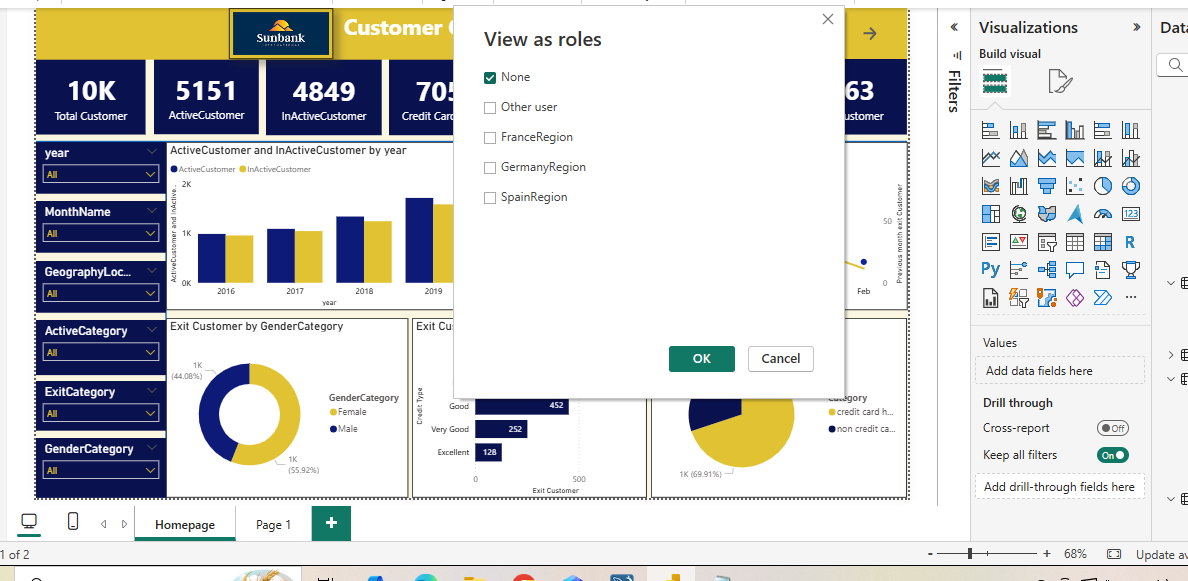

The dashboard page shown, as its layout file describes it:
{"tool":"powerbi","page":{"name":"Homepage","canvas":[1280,720],"ordinal":0},"visuals":[{"type":"card","fields":{"Values":["Calculations.Total Customer"]},"box":[0,75.6,161.3,110.9],"z":0},{"type":"card","fields":{"Values":["Calculations.ActiveCustomer"]},"box":[173.4,73.5,154.3,111.7],"z":1000},{"type":"card","fields":{"Values":["Calculations.InActiveCustomer"]},"box":[338,74.9,170.4,111.7],"z":2000},{"type":"card","fields":{"Values":["Calculations.Credit Card Holder"]},"box":[518.7,74.9,170.4,111.7],"z":3000},{"type":"card","fields":{"Values":["Calculations.Non Credit Card Holder"]},"box":[699.4,74.9,198.4,111.7],"z":4000},{"type":"textbox","box":[0,0,1280,75.6],"z":5000},{"type":"card","fields":{"Values":["Calculations.Exit Customer"]},"box":[909.6,74.9,174.9,111.7],"z":6000},{"type":"card","fields":{"Values":["Calculations.Retain Customer"]},"box":[1095.2,75.6,184.8,110.9],"z":7000},{"type":"image","box":[283.6,0,152.8,74.9],"z":8000},{"type":"shape","box":[0,174.9,1279.8,42.6],"z":9000},{"type":"shape","box":[173.4,196.9,35.3,523.1],"z":10000},{"type":"slicer","fields":{"Values":["DateMaster.year"]},"box":[0,196.9,191,76.4],"z":11000},{"type":"slicer","fields":{"Values":["DateMaster.MonthName"]},"box":[0,283.6,191,76.4],"z":12000},{"type":"slicer","fields":{"Values":["Geography.GeographyLocation"]},"box":[0,371.8,191,76.4],"z":13000},{"type":"slicer","fields":{"Values":["ActiveCustomer.ActiveCategory"]},"box":[0,458.4,191,80.8],"z":14000},{"type":"slicer","fields":{"Values":["ExitCustomer.ExitCategory"]},"box":[0,548.1,191,73.5],"z":15000},{"type":"slicer","fields":{"Values":["Gender.GenderCategory"]},"box":[0,631.8,191,88.2],"z":16000},{"type":"clusteredColumnChart","fields":{"Category":["DateMaster.year","DateMaster.month"],"Y":["Calculations.ActiveCustomer","Calculations.InActiveCustomer"]},"box":[191,196.9,439.3,246.9],"z":17000},{"type":"lineChart","fields":{"Category":["DateMaster.MonthName"],"Y":["Calculations.Exit Customer"],"Y2":["Calculations.Previous month exit Customer"]},"box":[640,196.5,640,246.9],"z":18000},{"type":"donutChart","fields":{"Y":["Calculations.Exit Customer"],"Category":["Gender.GenderCategory"]},"box":[191,455.5,355.6,264.5],"z":19000},{"type":"barChart","fields":{"Category":["Bank_Churn.Credit Type"],"Y":["Calculations.Exit Customer"]},"box":[552.5,455.5,345.3,264.5],"z":20000},{"type":"pieChart","fields":{"Category":["CreditCard.Category"],"Y":["Calculations.Exit Customer"]},"box":[903.7,455.5,376.2,264.5],"z":21000},{"type":"actionButton","box":[1204.9,17.6,64.7,39.7],"z":22000}]}

Visuals, with their boxes on the page's 1280x720 design canvas (x1, y1, x2, y2). These are canvas units, not pixel positions in the 1188x581 screenshot, which may show the page scaled, cropped or inside an application window:
card - Calculations.Total Customer: x1=0, y1=76, x2=161, y2=186
card - Calculations.ActiveCustomer: x1=173, y1=74, x2=328, y2=185
card - Calculations.InActiveCustomer: x1=338, y1=75, x2=508, y2=187
card - Calculations.Credit Card Holder: x1=519, y1=75, x2=689, y2=187
card - Calculations.Non Credit Card Holder: x1=699, y1=75, x2=898, y2=187
textbox: x1=0, y1=0, x2=1280, y2=76
card - Calculations.Exit Customer: x1=910, y1=75, x2=1084, y2=187
card - Calculations.Retain Customer: x1=1095, y1=76, x2=1280, y2=186
image: x1=284, y1=0, x2=436, y2=75
shape: x1=0, y1=175, x2=1280, y2=218
shape: x1=173, y1=197, x2=209, y2=720
slicer - DateMaster.year: x1=0, y1=197, x2=191, y2=273
slicer - DateMaster.MonthName: x1=0, y1=284, x2=191, y2=360
slicer - Geography.GeographyLocation: x1=0, y1=372, x2=191, y2=448
slicer - ActiveCustomer.ActiveCategory: x1=0, y1=458, x2=191, y2=539
slicer - ExitCustomer.ExitCategory: x1=0, y1=548, x2=191, y2=622
slicer - Gender.GenderCategory: x1=0, y1=632, x2=191, y2=720
clusteredColumnChart - DateMaster.year x DateMaster.month: x1=191, y1=197, x2=630, y2=444
lineChart - DateMaster.MonthName x Calculations.Exit Customer: x1=640, y1=196, x2=1280, y2=443
donutChart - Calculations.Exit Customer x Gender.GenderCategory: x1=191, y1=456, x2=547, y2=720
barChart - Bank_Churn.Credit Type x Calculations.Exit Customer: x1=552, y1=456, x2=898, y2=720
pieChart - CreditCard.Category x Calculations.Exit Customer: x1=904, y1=456, x2=1280, y2=720
actionButton: x1=1205, y1=18, x2=1270, y2=57
